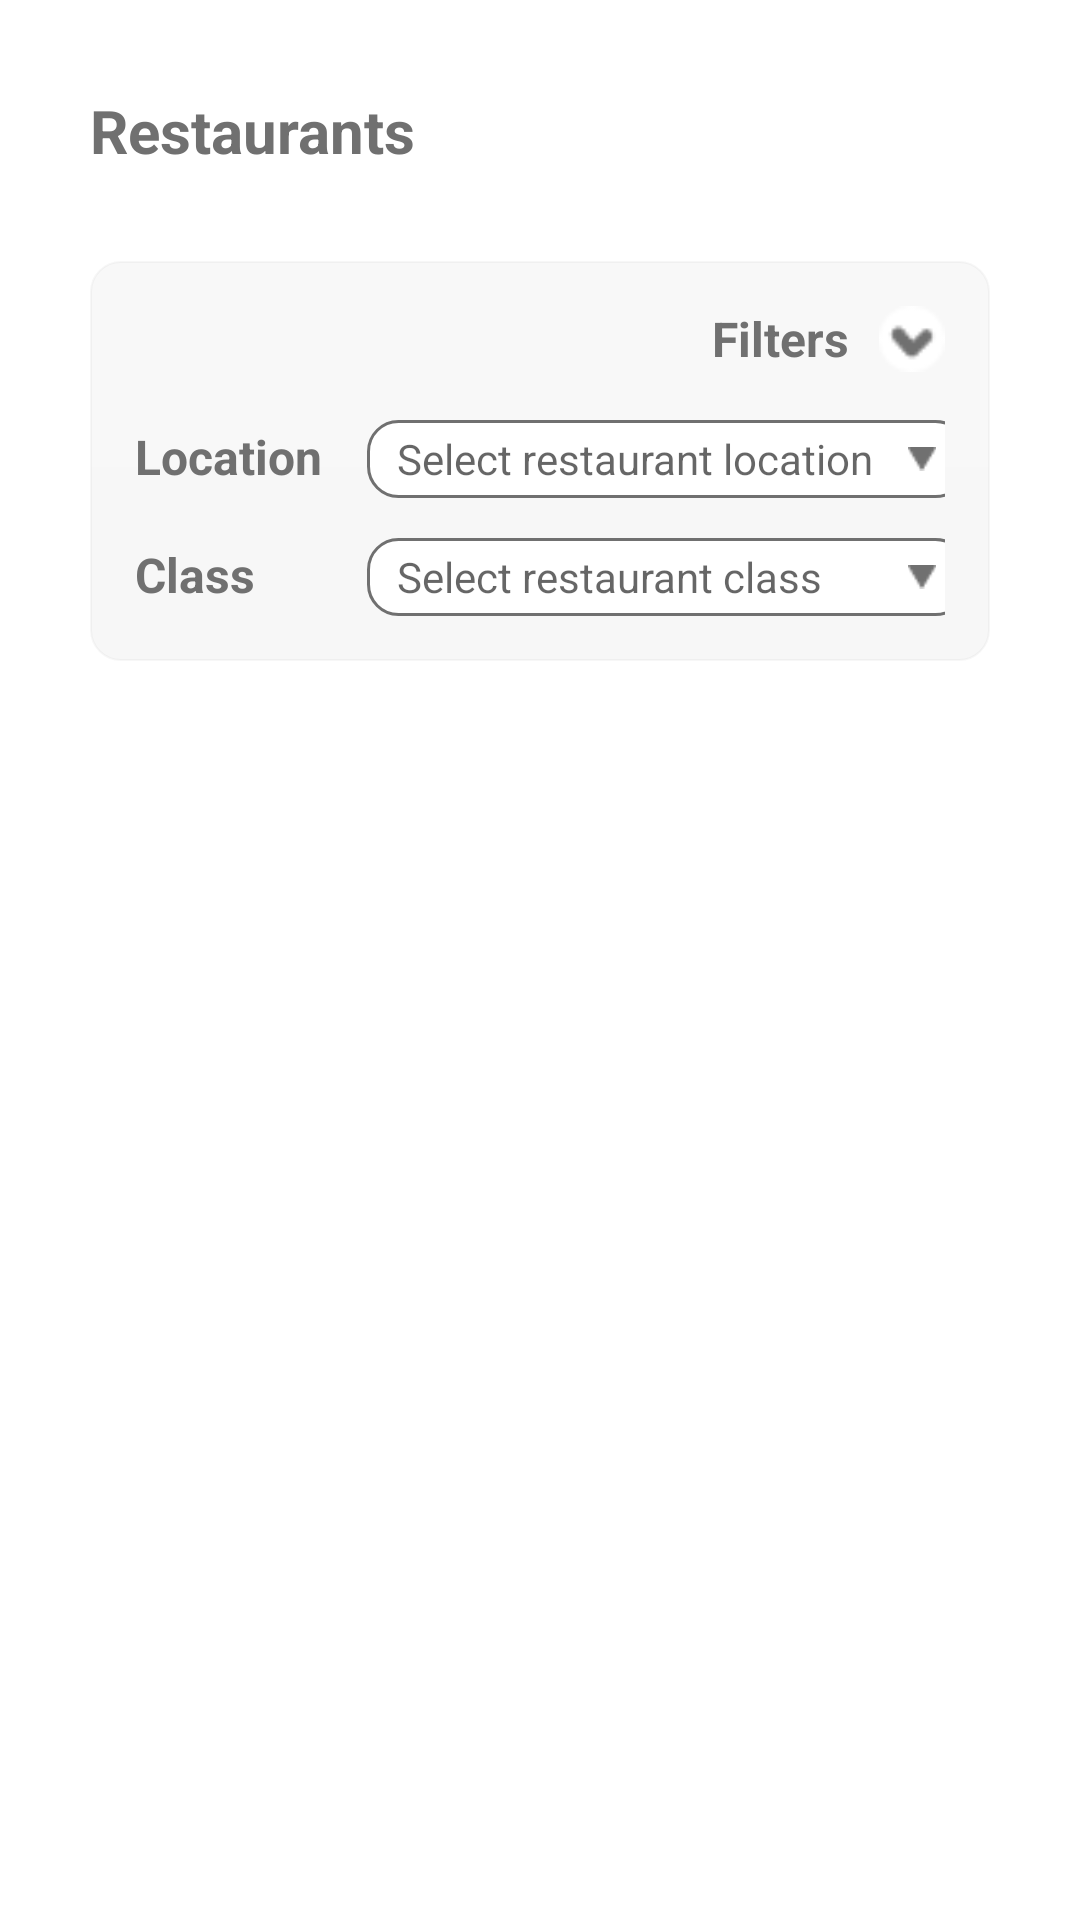

Screen size 1080*1920. Icon name, then its box in pixels as (left=x1, top=y1, right=x2, bottom=y2):
expand: (left=891, top=326, right=933, bottom=358)
